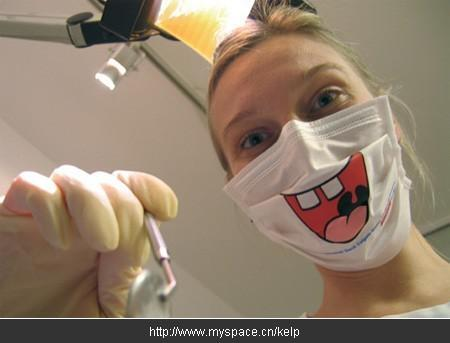OK: (220, 56, 411, 247)
